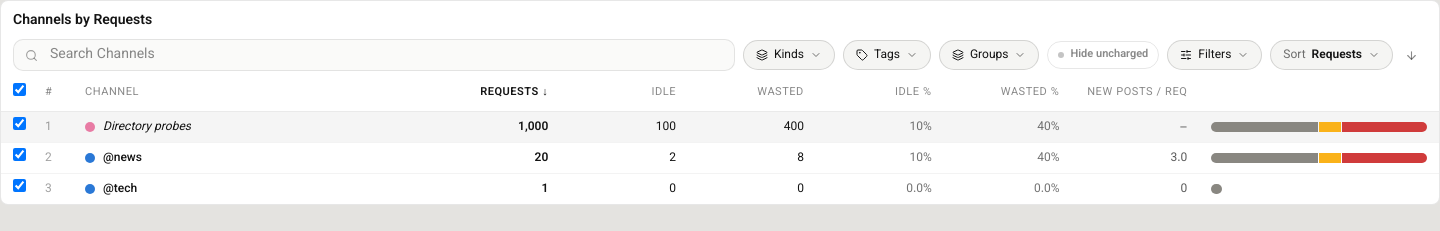
Scenario: ChannelTable's filters, yield and picking (RQS-04) › Hide uncharged leaves out the aggregate rows, and says how many are left
Click the button with test id "requests-switch-uncharged" at (1103,55), box [1047, 41, 1159, 69]
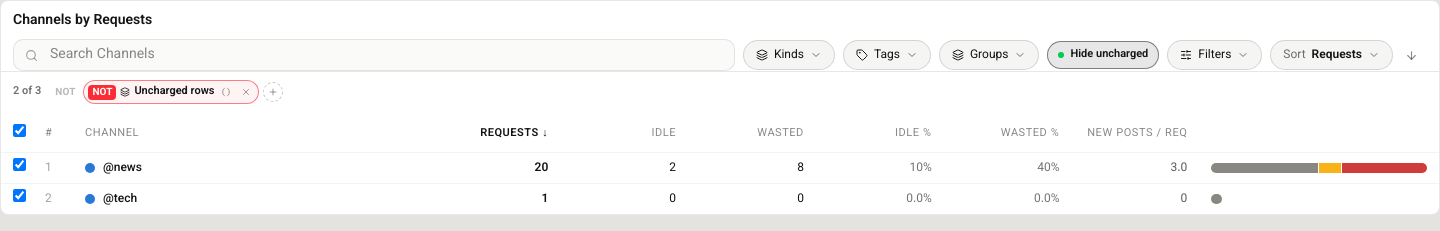
Now the button "Uncharged rows" is shown, box [134, 84, 214, 100]
